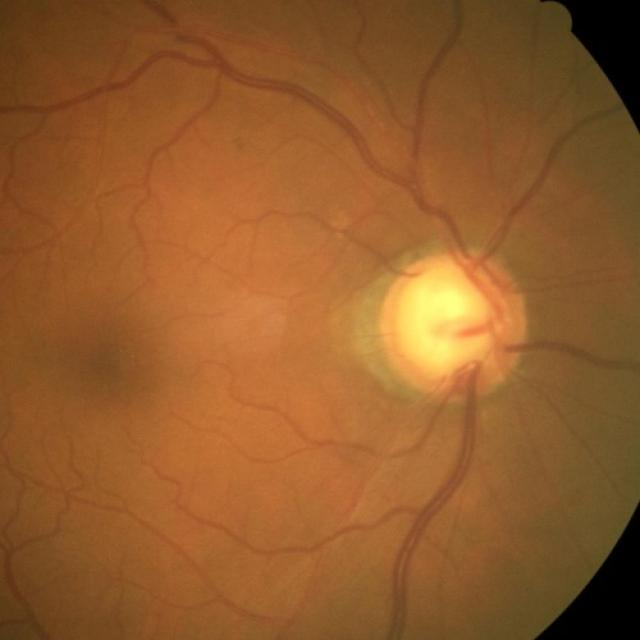OC: (396, 267, 498, 375)
OD: (376, 253, 525, 403)
